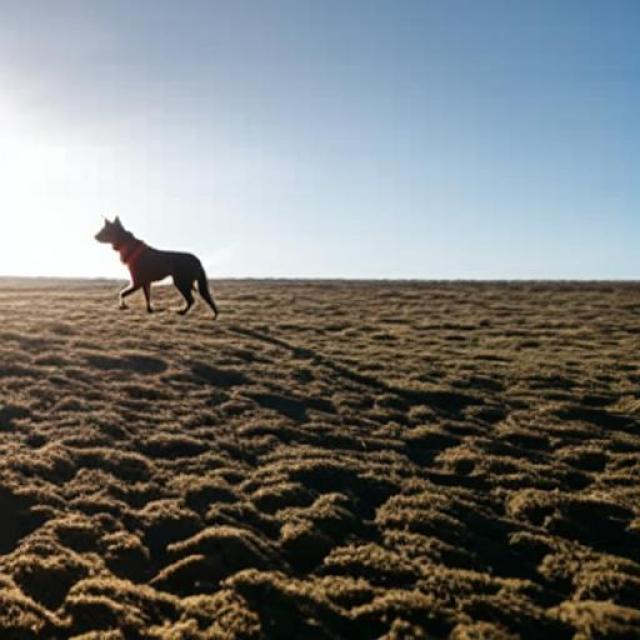Dog: (94, 216, 220, 316)
